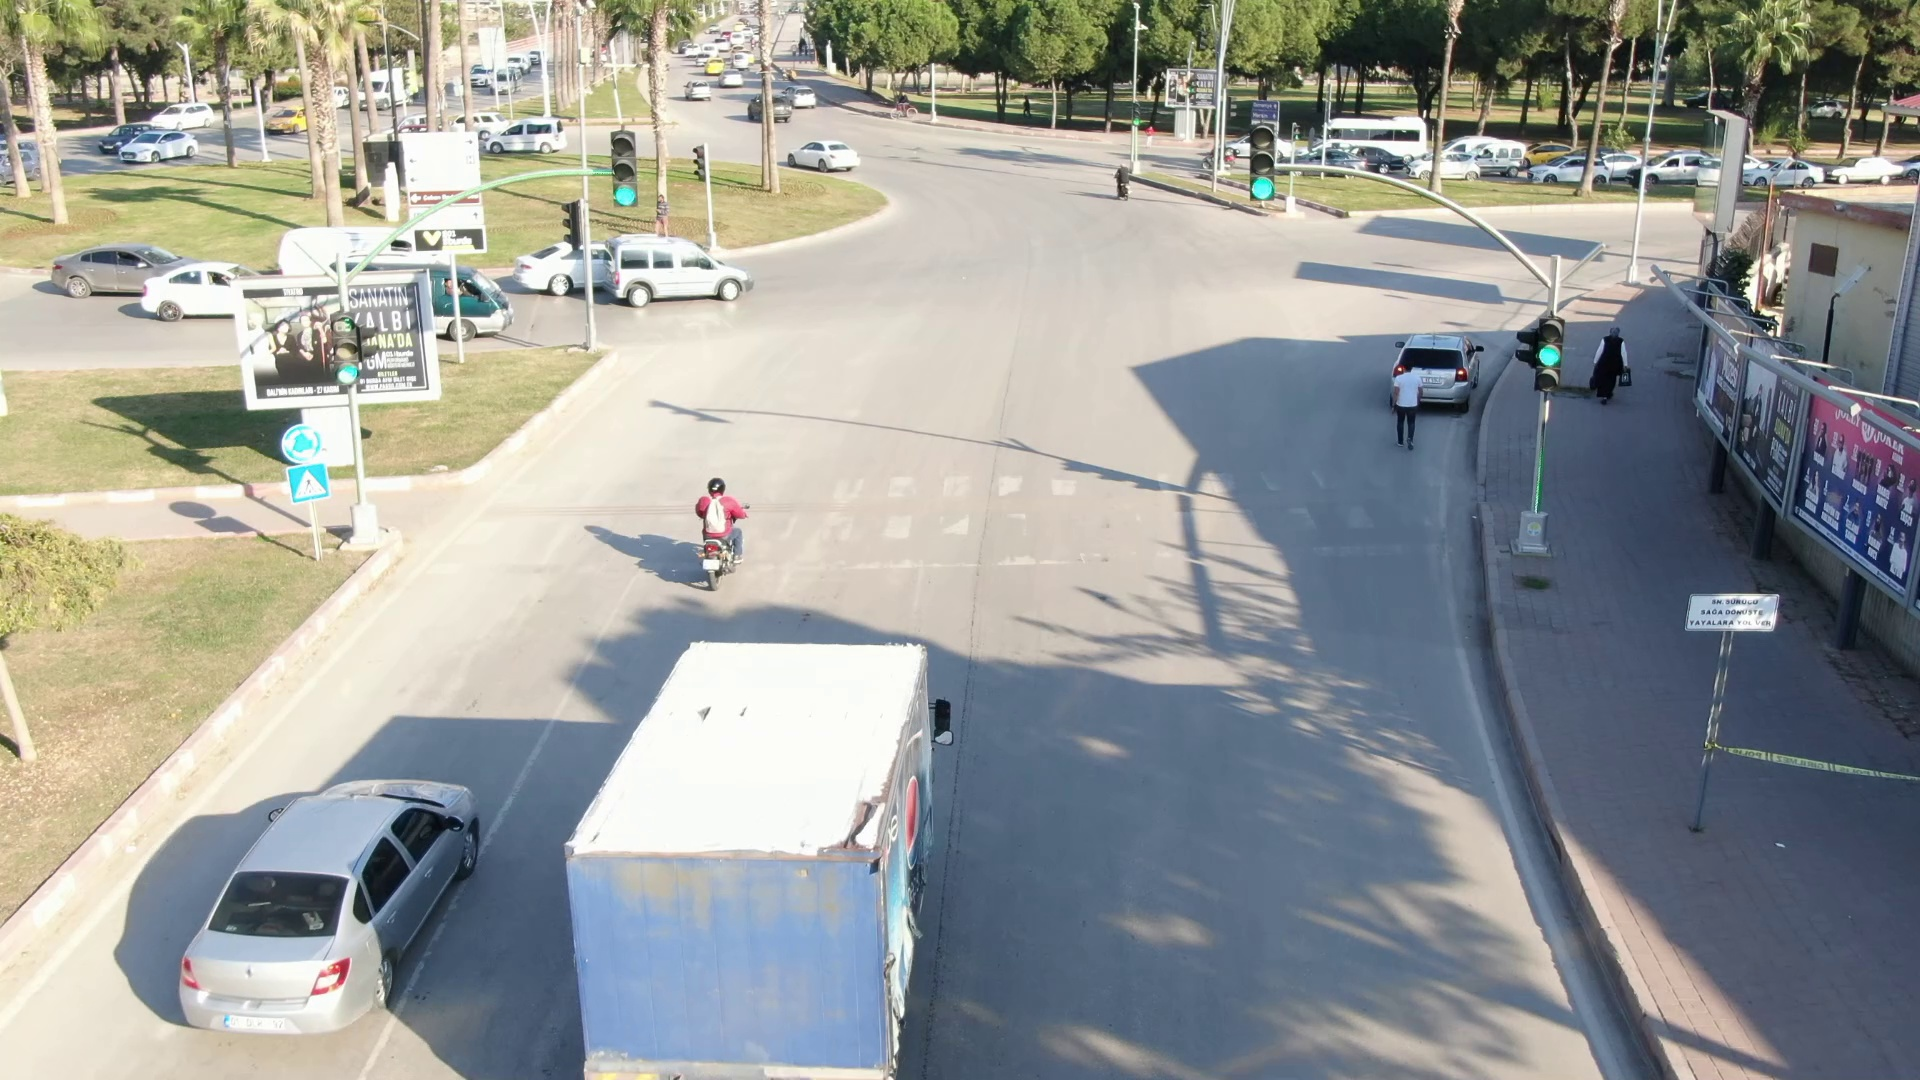car: (145, 717, 510, 1041), (601, 230, 762, 311), (48, 237, 210, 303), (481, 113, 577, 156), (1522, 146, 1617, 188), (781, 134, 871, 176), (116, 125, 206, 164), (679, 78, 718, 102)
person: (688, 472, 775, 567), (1582, 306, 1640, 413), (1386, 351, 1430, 463)
